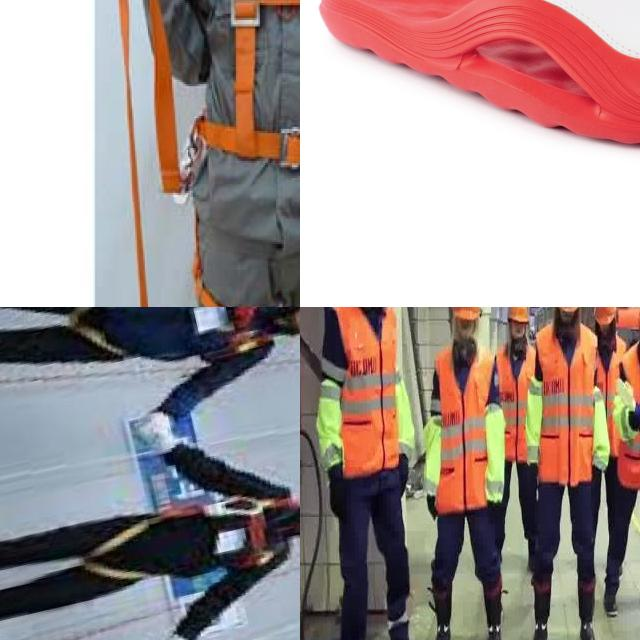Harness: (191, 0, 300, 307), (71, 476, 300, 604), (63, 307, 300, 392)
Sandals: (317, 0, 640, 149)
boots: (601, 592, 618, 615), (579, 624, 597, 640), (433, 627, 450, 640), (486, 627, 502, 640), (530, 630, 549, 640)
hand_glove: (328, 462, 346, 514), (398, 450, 409, 496), (485, 498, 502, 520), (526, 458, 538, 488), (425, 496, 437, 520)
head_helmet: (451, 307, 481, 323), (593, 307, 617, 326), (507, 307, 528, 327)
person: (304, 307, 422, 640), (426, 307, 507, 640), (533, 307, 606, 640)
vest: (332, 307, 398, 474), (435, 346, 495, 514), (536, 323, 596, 485), (497, 336, 537, 459), (594, 336, 626, 456), (620, 342, 640, 492)
